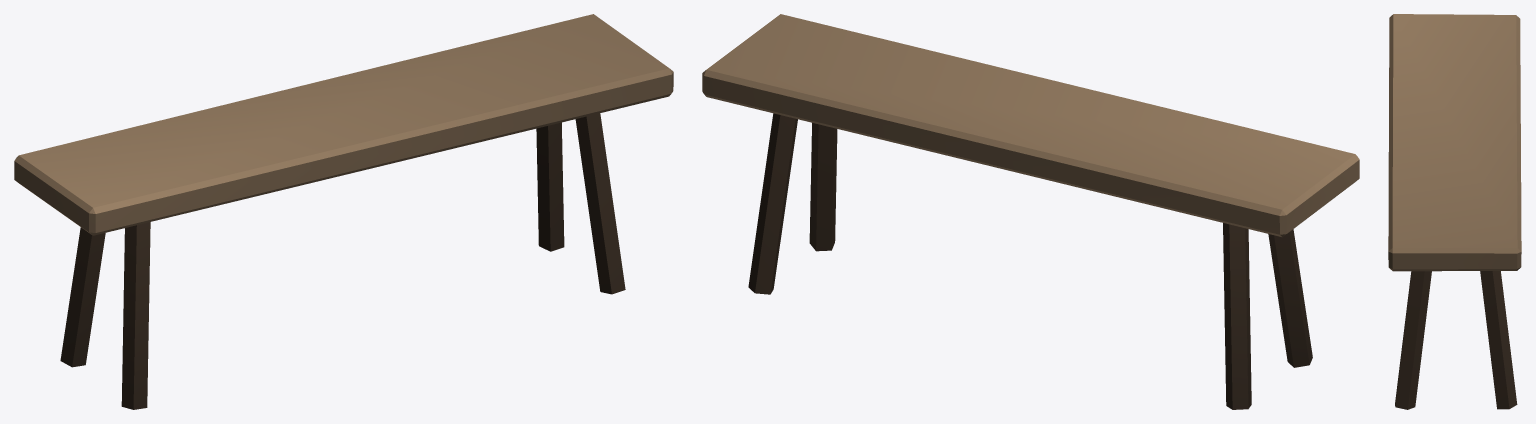
Rendered from ph_prop_apprentice_bench.glb.
3 views of the same model, side by side, from view 1: azimuth 30°, elevation 25°; view 2: azimuth 150°, elevation 25°; view 3: azimuth 270°, elevation 25° (orthographic). The views are drawn at different scales.
Parts seen in each view (by area): view 1: ph_prop_apprentice_bench; view 2: ph_prop_apprentice_bench; view 3: ph_prop_apprentice_bench.
Part boxes in pixels (<box>): ph_prop_apprentice_bench: <box>14,14,673,409</box>; ph_prop_apprentice_bench: <box>702,14,1359,409</box>; ph_prop_apprentice_bench: <box>1388,14,1521,409</box>.
Size of the model in its own units: 1.1 by 0.3892 by 0.261.
